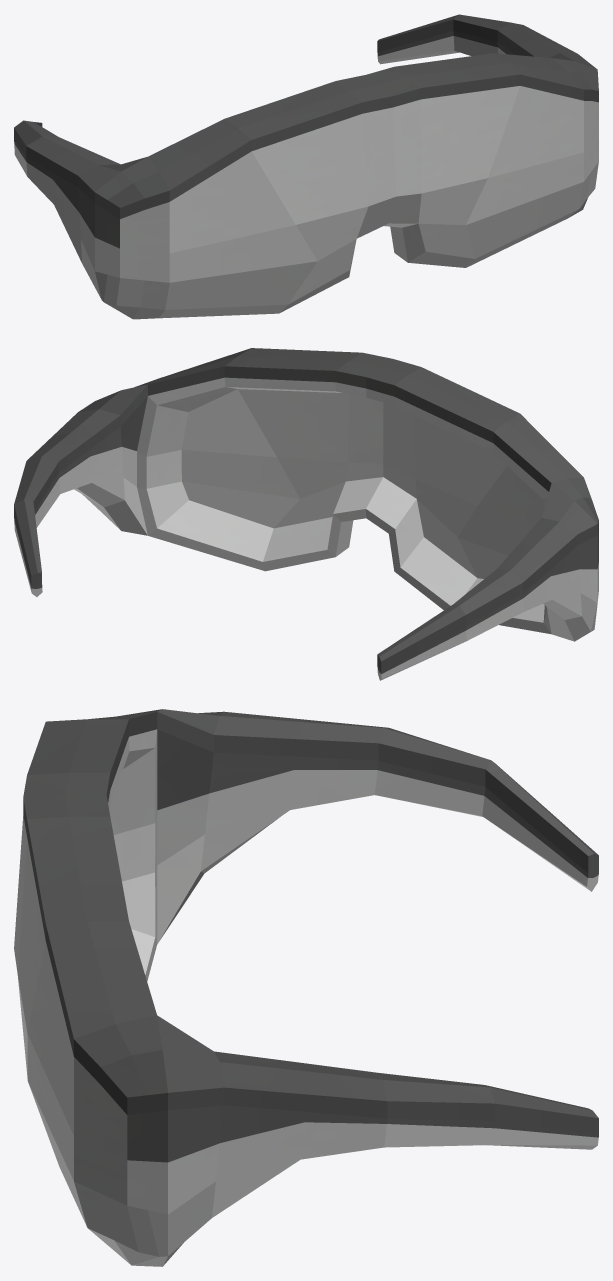
The model's file is plastic_glasses.glb.
The picture shows the model from 3 angles, top to bottom: view 1: azimuth 30°, elevation 25°; view 2: azimuth 150°, elevation 25°; view 3: azimuth 270°, elevation 25°; orthographic projection. The views are drawn at different scales.
Parts seen in each view (by area): view 1: plastic_glasses; view 2: plastic_glasses; view 3: plastic_glasses.
Part boxes in pixels (bbox=[...]): plastic_glasses: bbox=[14, 14, 598, 319]; plastic_glasses: bbox=[14, 348, 598, 680]; plastic_glasses: bbox=[14, 709, 598, 1266].
Bounding box in the file's own units: 0.199 × 0.08 × 0.1301.
Materials: 1 (1 with a texture image).
